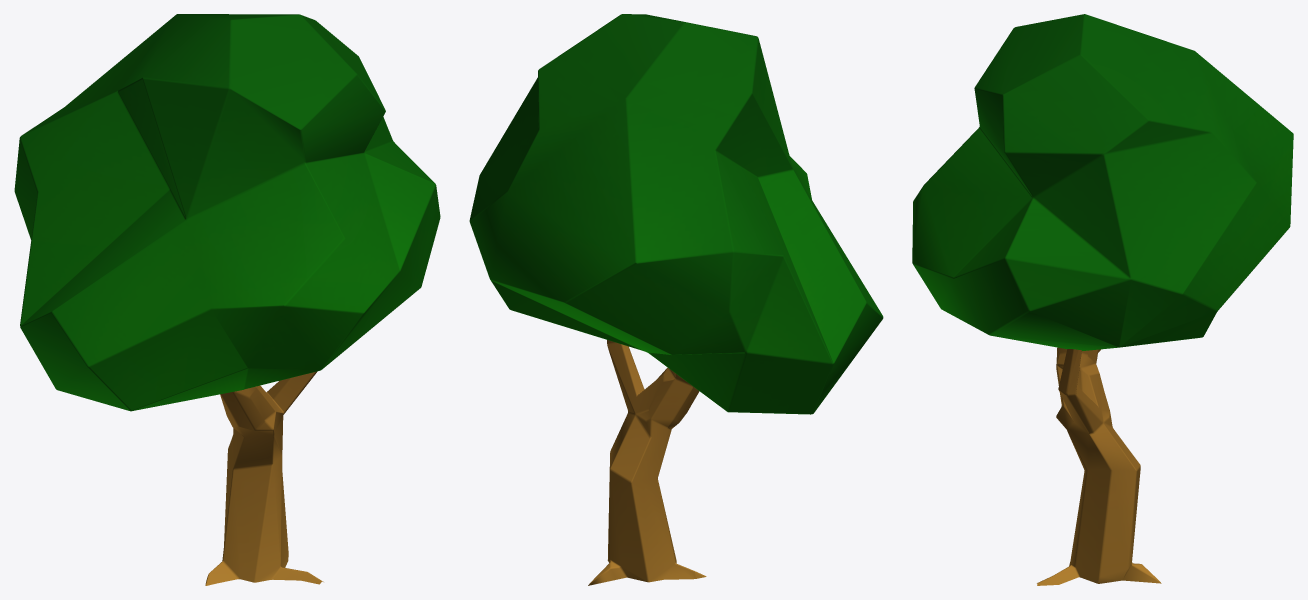
File: SM_Tree00.fbx
3 renders of one model, left to right at view 1: azimuth 30°, elevation 25°; view 2: azimuth 150°, elevation 25°; view 3: azimuth 270°, elevation 25°, orthographic. The views are drawn at different scales.
Parts seen in each view (by area): view 1: Tree00; view 2: Tree00; view 3: Tree00.
Boxes of the visible parts, x1=… form: Tree00: x1=14, y1=14, x2=440, y2=585; Tree00: x1=469, y1=14, x2=883, y2=585; Tree00: x1=912, y1=14, x2=1293, y2=585.
Bounding box in the file's own units: 493 × 719 × 458.
